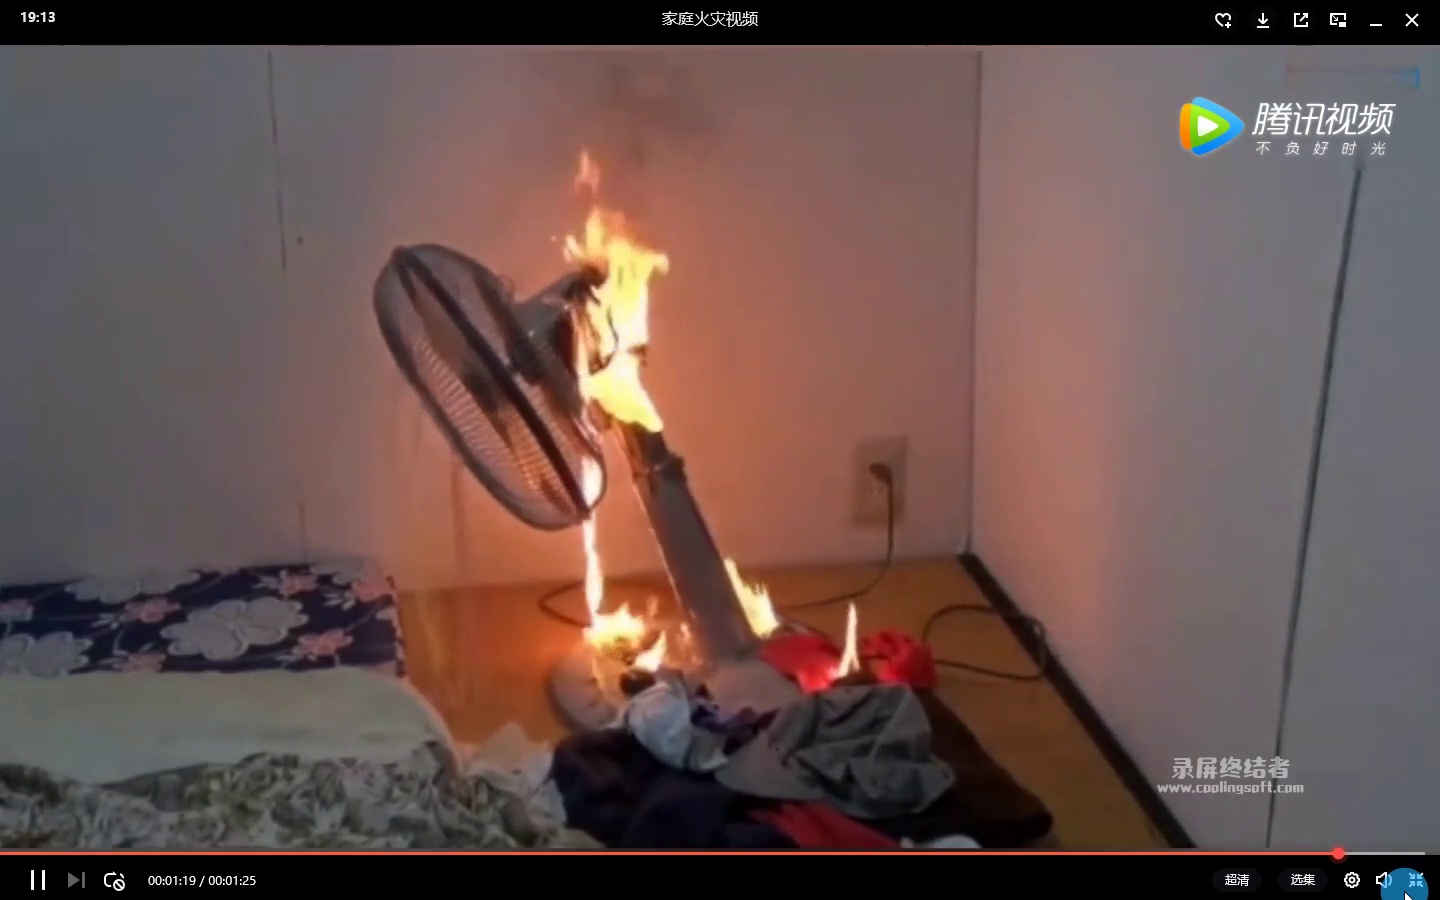fire: (561, 162, 682, 441), (577, 482, 675, 673)
